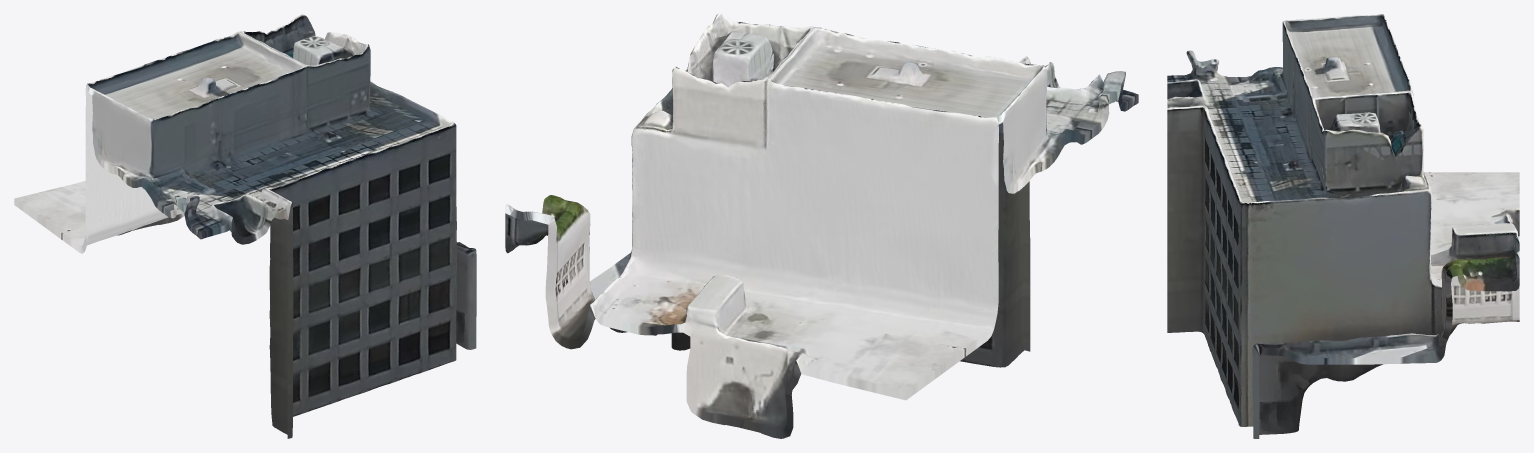
The model's file is z20-167749-405245-h1-yup-uvflip-v3-world.glb.
3 views of the same model, side by side, from view 1: azimuth 30°, elevation 25°; view 2: azimuth 150°, elevation 25°; view 3: azimuth 270°, elevation 25° (orthographic). The views are drawn at different scales.
Bounding box in the file's own units: 30.16 × 26.36 × 30.32.
Materials: 1 (1 with a texture image).
